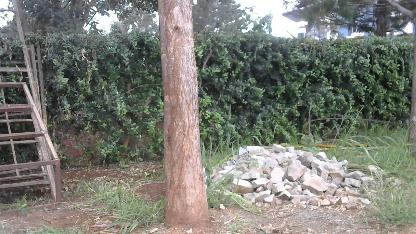tree: (153, 0, 214, 234)
